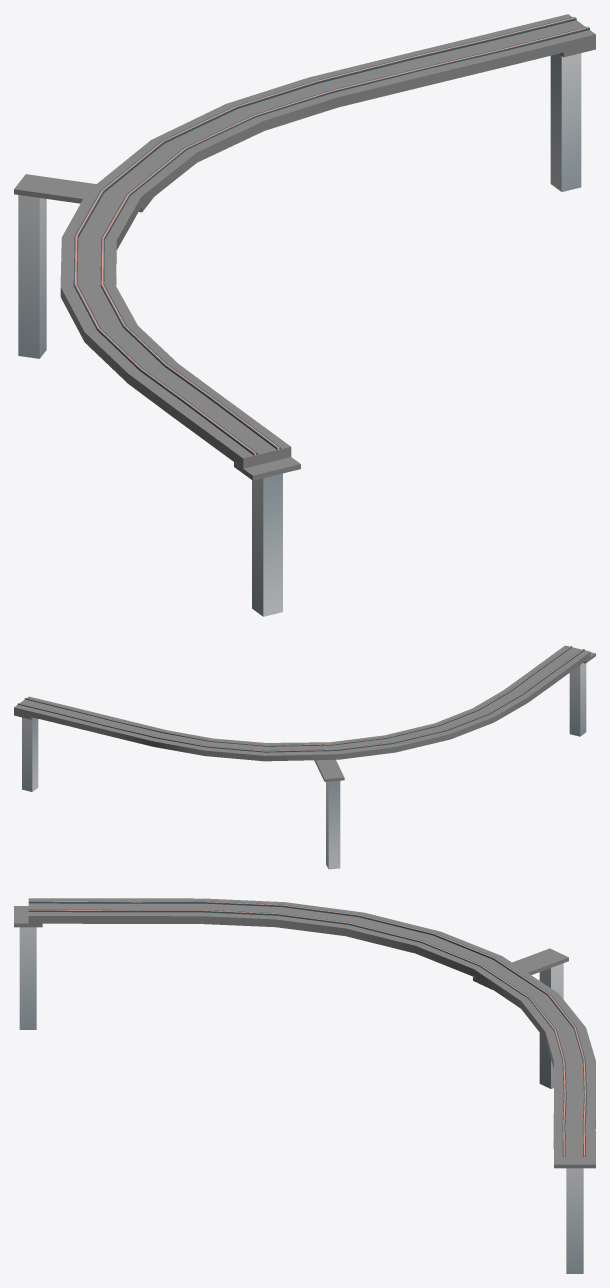
Rendered from Trackturn.fbx.
The picture shows the model from 3 angles, top to bottom: view 1: azimuth 30°, elevation 25°; view 2: azimuth 150°, elevation 25°; view 3: azimuth 270°, elevation 25°; orthographic projection. The views are drawn at different scales.
Visible parts, largest first — view 1: Trackturn; view 2: Trackturn; view 3: Trackturn.
Part boxes in pixels (bbox=[...]): Trackturn: bbox=[14, 14, 595, 616]; Trackturn: bbox=[14, 645, 595, 869]; Trackturn: bbox=[14, 898, 595, 1273].
Size of the model in its own units: 9.39 by 2.33 by 8.93.
